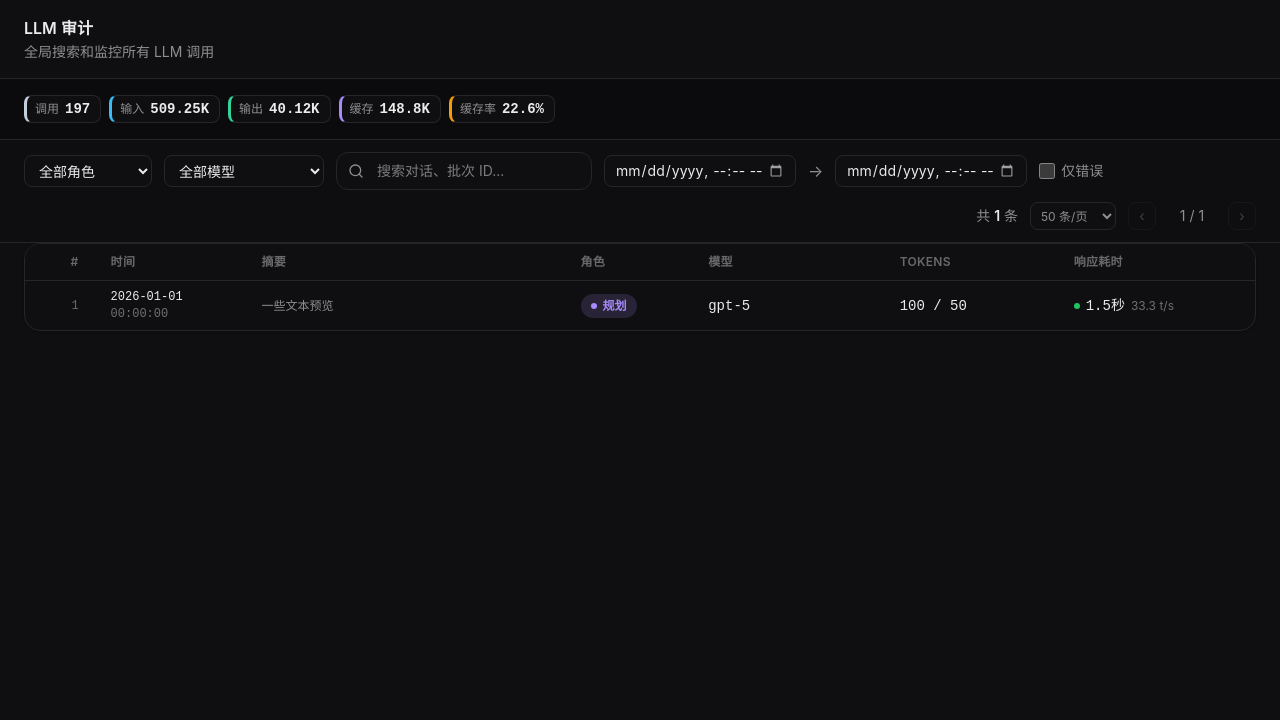
Test: LlmAuditPage › 点击行打开详情抽屉并按 id 拉取详情
This screenshot has width=1280, height=720.
Click the button with aria-label "查看调用详情 req-1". click: (147, 297)
box: x1=25 y1=280 x2=1255 y2=330
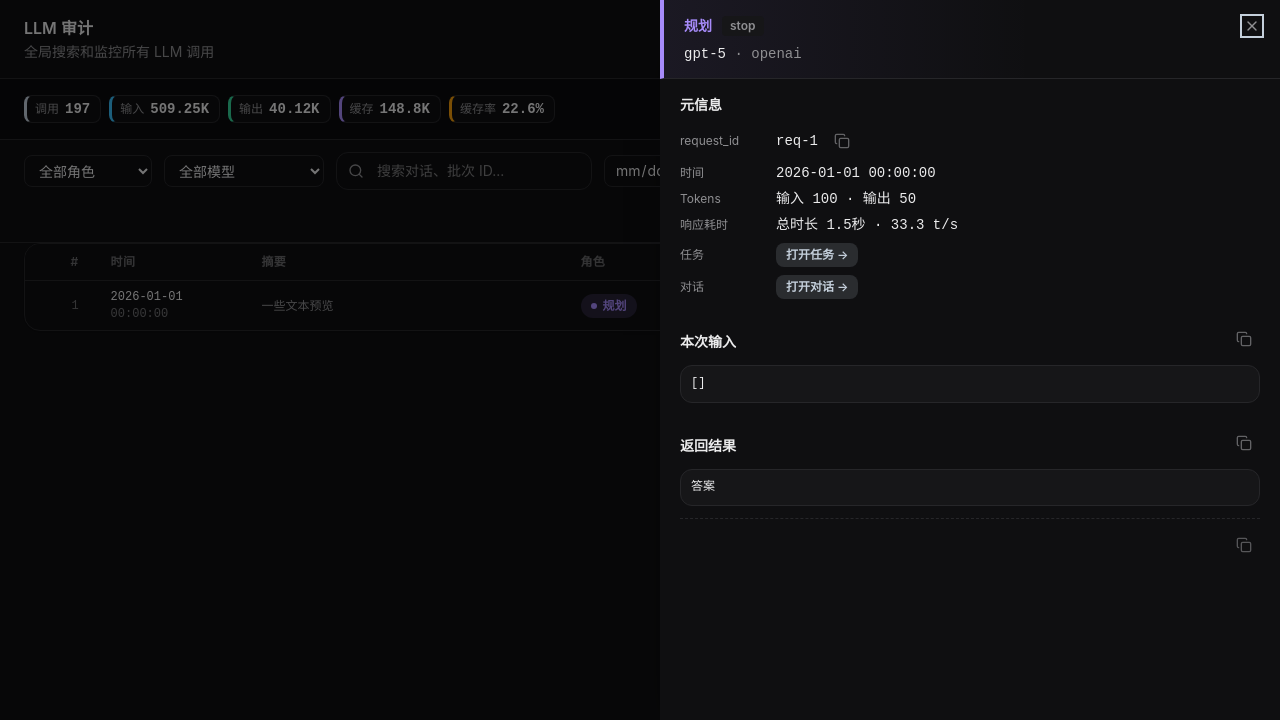
Result: the text "req-1" is shown at x1=776 y1=125 x2=858 y2=157
